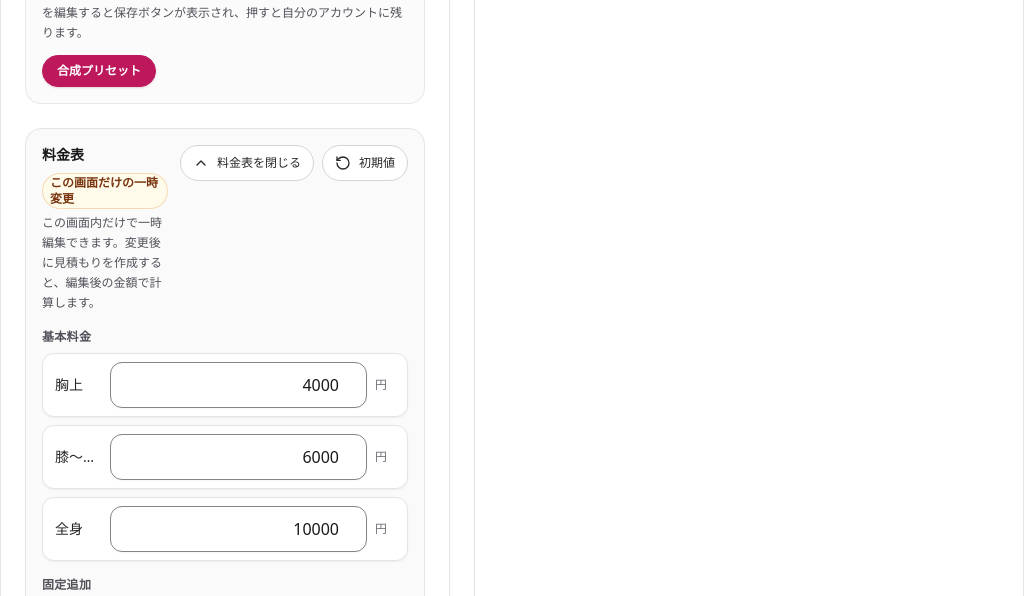
Scenario: clears cached pricing and rejects access when an explicit workspace preset save returns 401
The width and height of the screenshot is (1024, 596).
(page scrolled)
expect the button "合成プリセット" is shown: met, box left=42, top=54, right=156, bottom=86
Replace the text in the number field labelled "胸上 円" with "9001" at (238, 384), box left=110, top=362, right=367, bottom=408
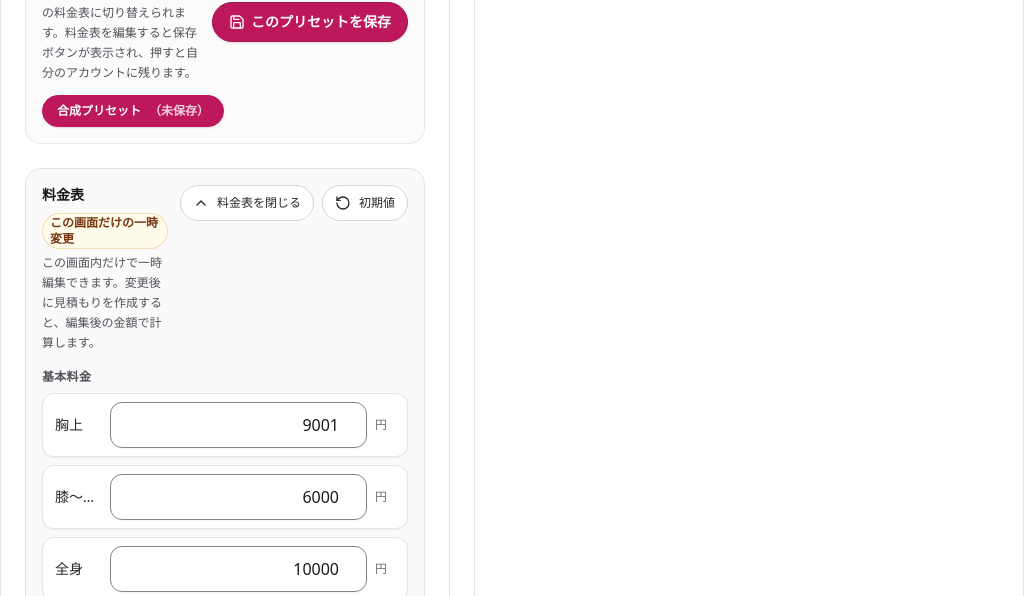
Click the button "このプリセットを保存" at (310, 22), box left=212, top=2, right=408, bottom=42
(page scrolled)
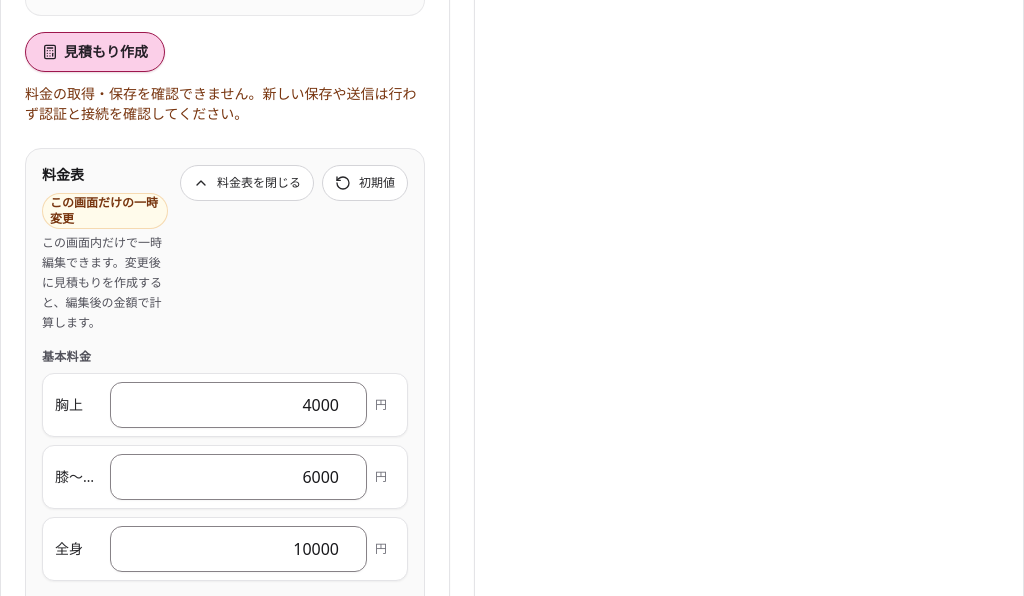
expect the button "合成プリセット" is gone: met
